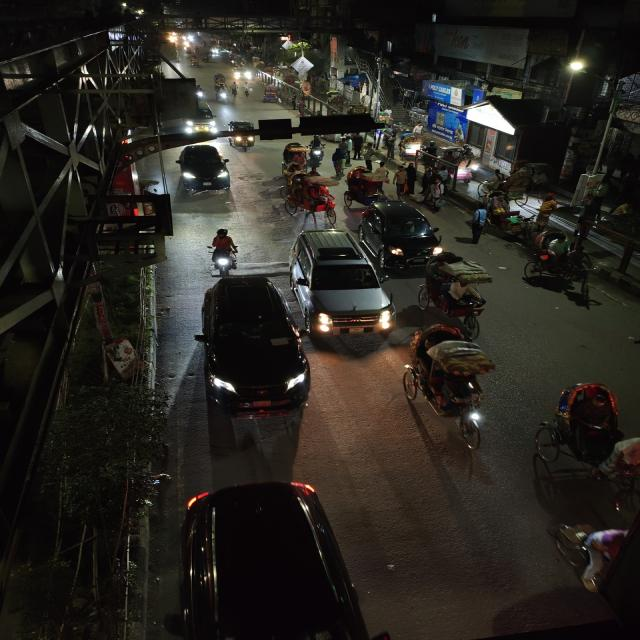car: (173, 478, 373, 640), (192, 274, 313, 430), (287, 228, 393, 341), (360, 200, 446, 266), (172, 141, 235, 197), (178, 107, 218, 137), (231, 65, 251, 81)
cng: (225, 119, 260, 153)
motorcycle: (200, 226, 242, 276), (194, 83, 208, 101)
pedestrian: (399, 160, 424, 196), (467, 207, 490, 241), (305, 136, 326, 172), (428, 178, 449, 212), (486, 188, 512, 214), (392, 165, 411, 198), (331, 142, 348, 176), (362, 144, 382, 172), (348, 132, 367, 160), (379, 133, 397, 161)
rickshaw: (404, 322, 504, 458), (536, 378, 640, 508), (418, 257, 498, 326), (277, 176, 338, 224), (341, 166, 389, 208), (279, 141, 307, 171), (259, 86, 282, 105), (212, 73, 227, 87)
